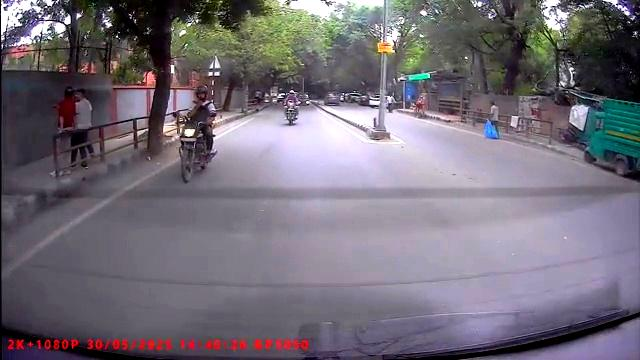motorcycle_with_helmet: (177, 85, 217, 185)
